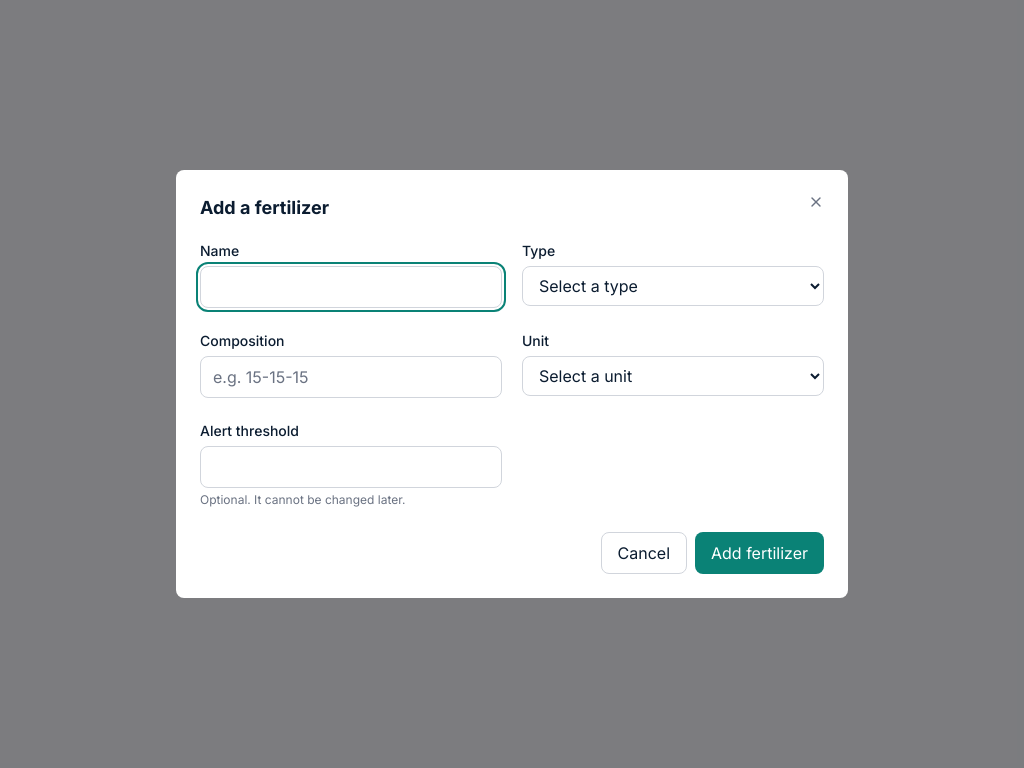
Test: the Add a fertilizer dialog › refuses an empty form, each message under its field
The image size is (1024, 768).
Click the button "Add fertilizer": coordinates (760, 553) [695, 532, 824, 574]
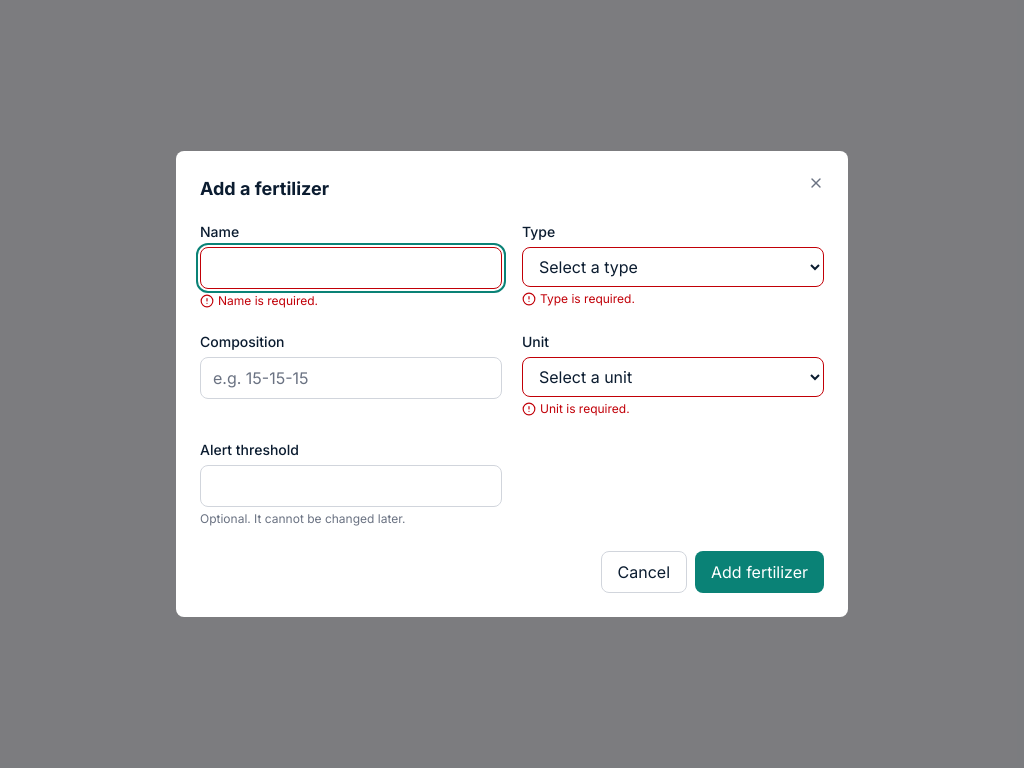
Now the text "Name is required." is shown, box [218, 293, 318, 309]
Now the text "Type is required." is shown, box [540, 291, 635, 307]
Now the text "Unit is required." is shown, box [540, 401, 630, 417]
